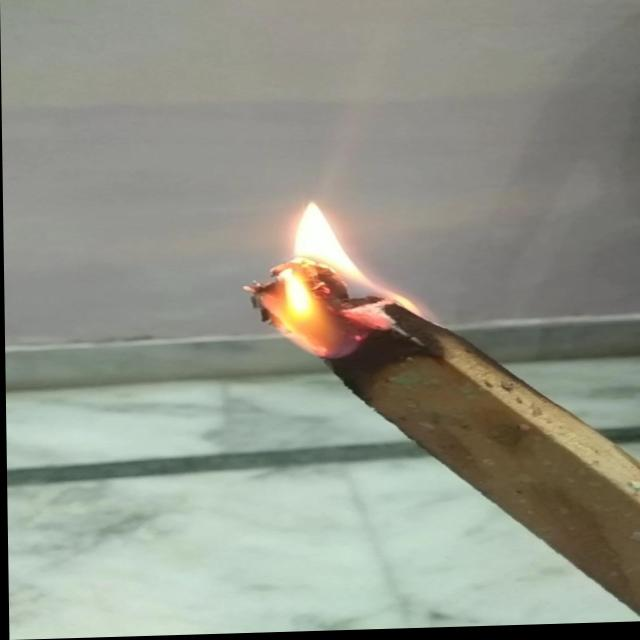fire: (218, 192, 440, 373)
